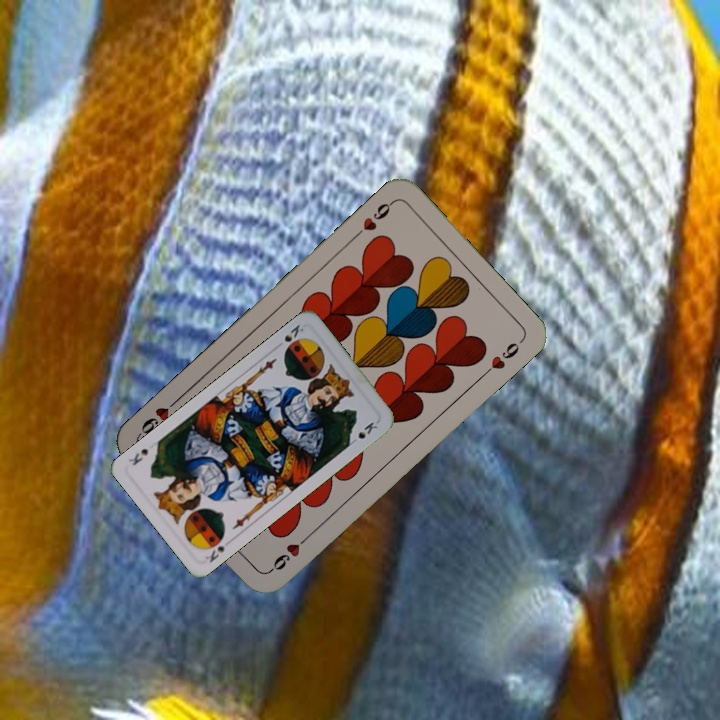H9: (349, 196, 397, 241), (264, 532, 311, 576)
SK: (201, 535, 234, 565), (279, 320, 306, 355)
